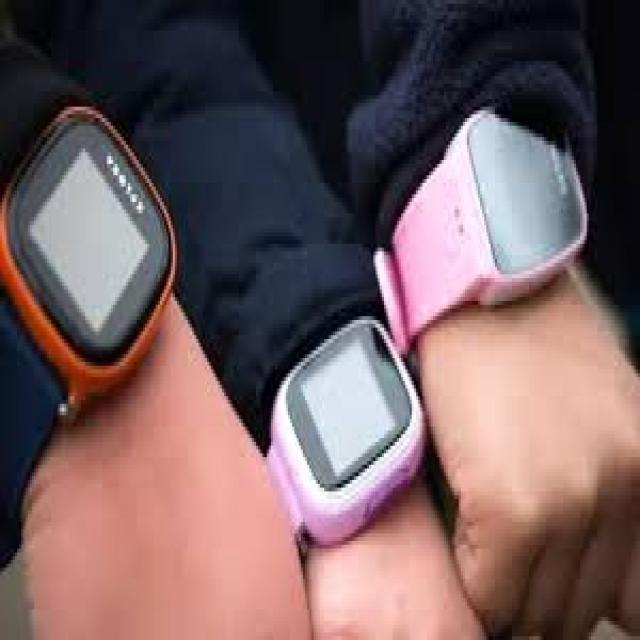objects: (0, 107, 175, 415), (266, 292, 426, 546), (438, 87, 594, 316)
